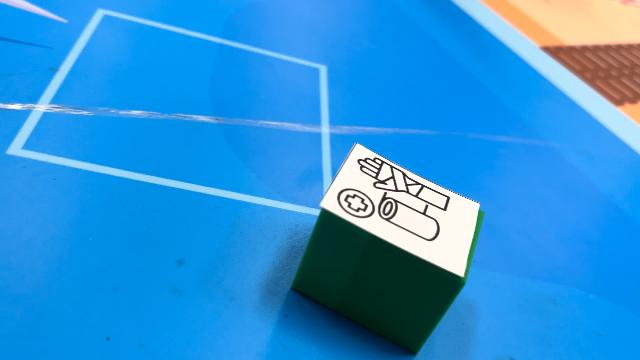bandage: (290, 142, 484, 354)
